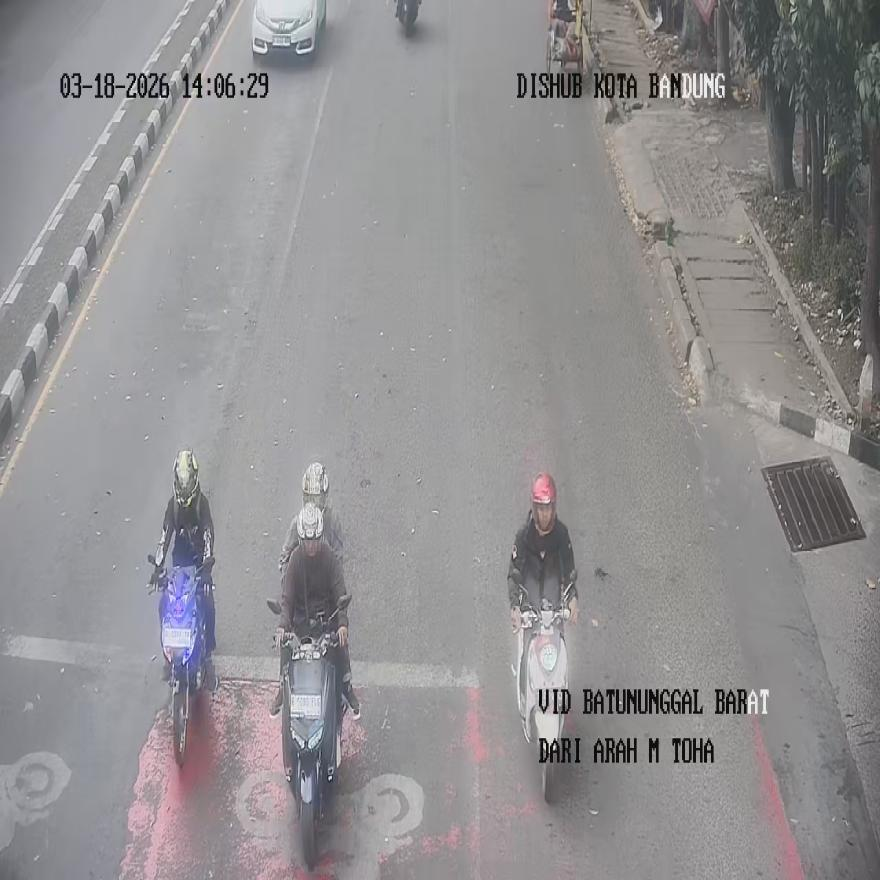Motor: (251, 0, 325, 60)
Truk: (268, 595, 350, 870), (148, 558, 214, 767), (512, 595, 569, 801), (394, 0, 420, 35)
